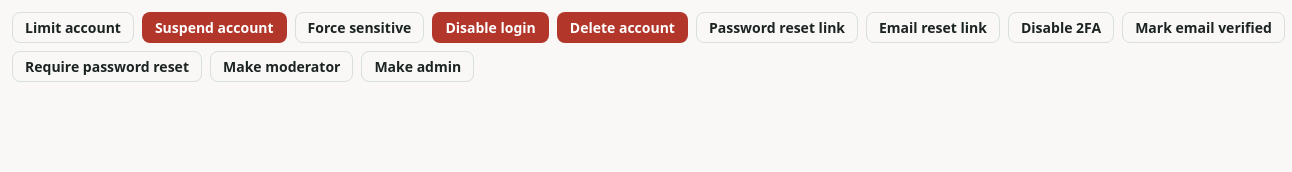
Test case: AccountActions › shows the returned reset link
Click the button "Password reset link".
click(777, 28)  # box [696,12,858,43]
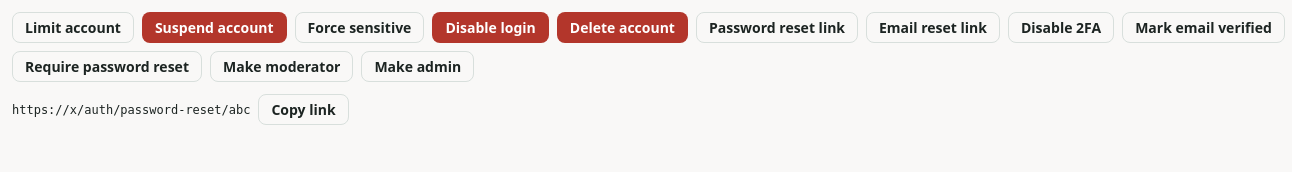
Expected: the text "https://x/auth/password-reset/abc" is shown, [12,100,250,118]
